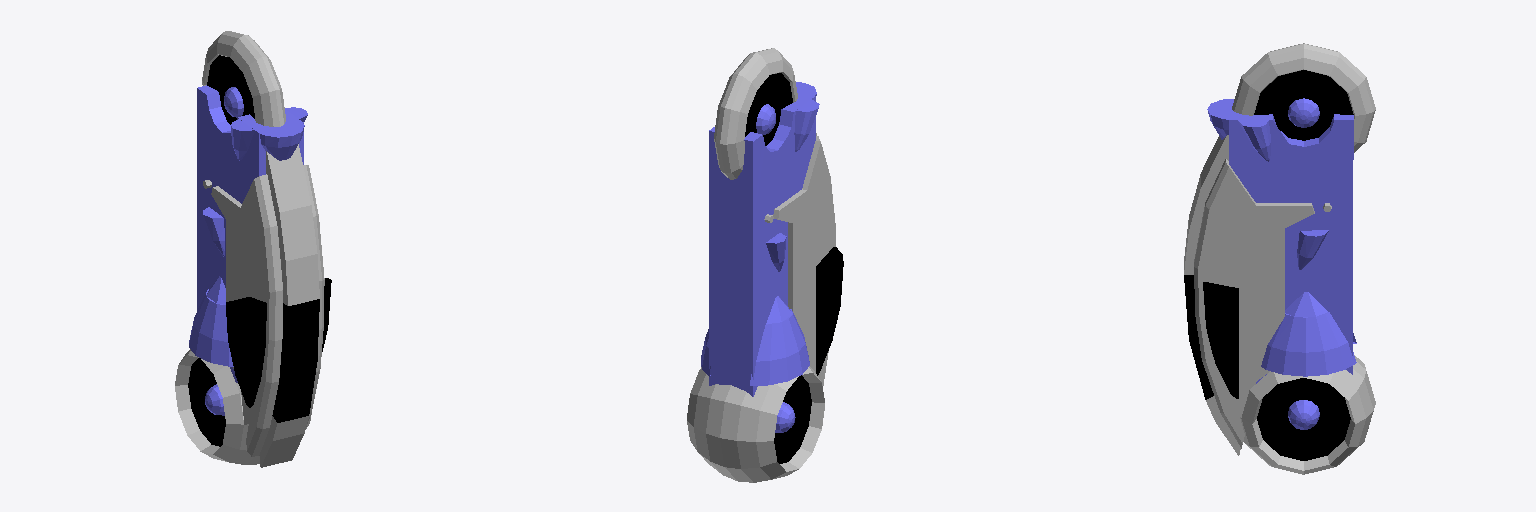
Rendered from lightcycle high.obj.
3 views of the same model, side by side, from view 1: azimuth 30°, elevation 25°; view 2: azimuth 150°, elevation 25°; view 3: azimuth 270°, elevation 25° (orthographic).
Size of the model in its own units: 93.51 by 371 by 152.